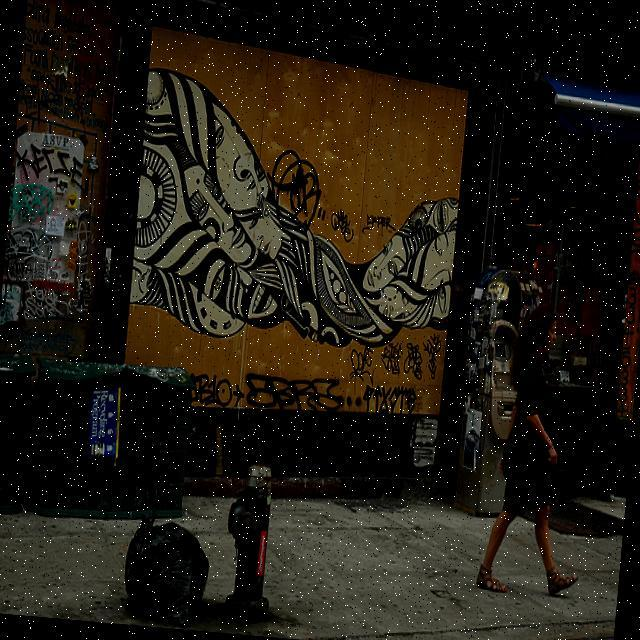fire_hydrant: (220, 454, 280, 612)
